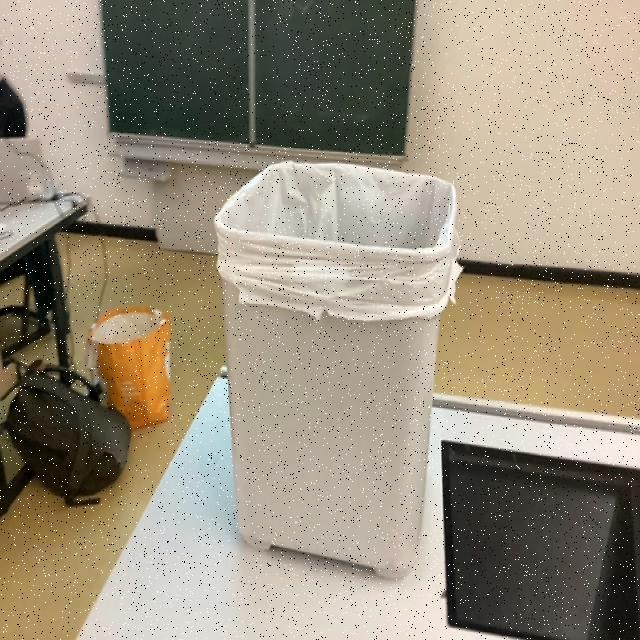garbage container: (185, 91, 498, 590)
